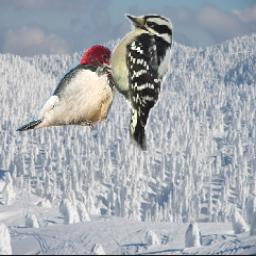Woodpecker: (89, 11, 175, 152), (15, 44, 131, 131)
